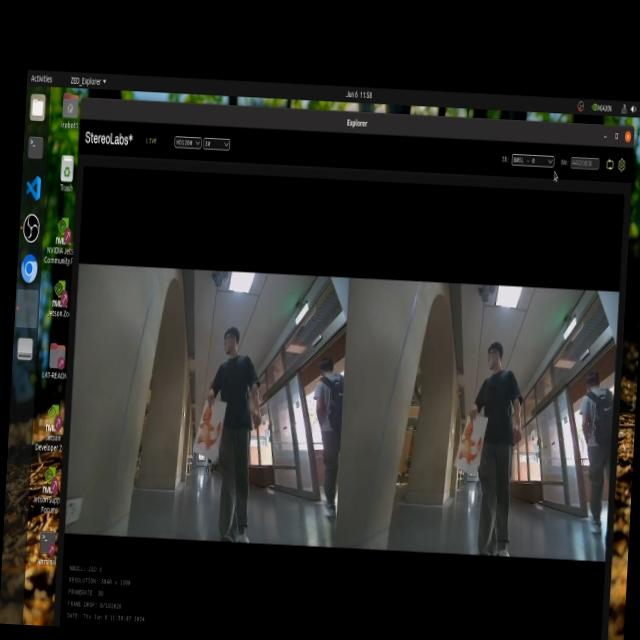red: (452, 417, 488, 479), (193, 400, 230, 457)
